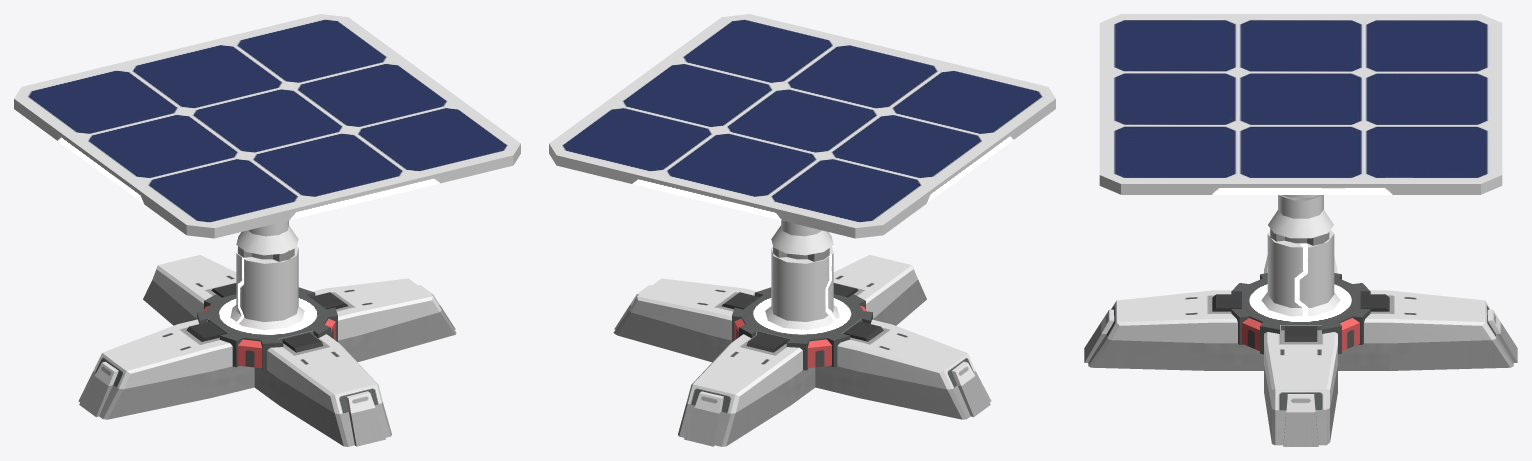
The picture shows the model from 3 angles, left to right: view 1: azimuth 30°, elevation 25°; view 2: azimuth 150°, elevation 25°; view 3: azimuth 270°, elevation 25°; orthographic projection. The views are drawn at different scales.
Parts seen in each view (by area): view 1: solar-panel; view 2: solar-panel; view 3: solar-panel.
Boxes of the visible parts, box(x1,y1,x2,y2) form: solar-panel: box(14, 14, 520, 446); solar-panel: box(549, 14, 1055, 446); solar-panel: box(1084, 14, 1517, 446).
Size of the model in its own units: 3.55 by 2.32 by 3.55.
1 material, 1 textured.
